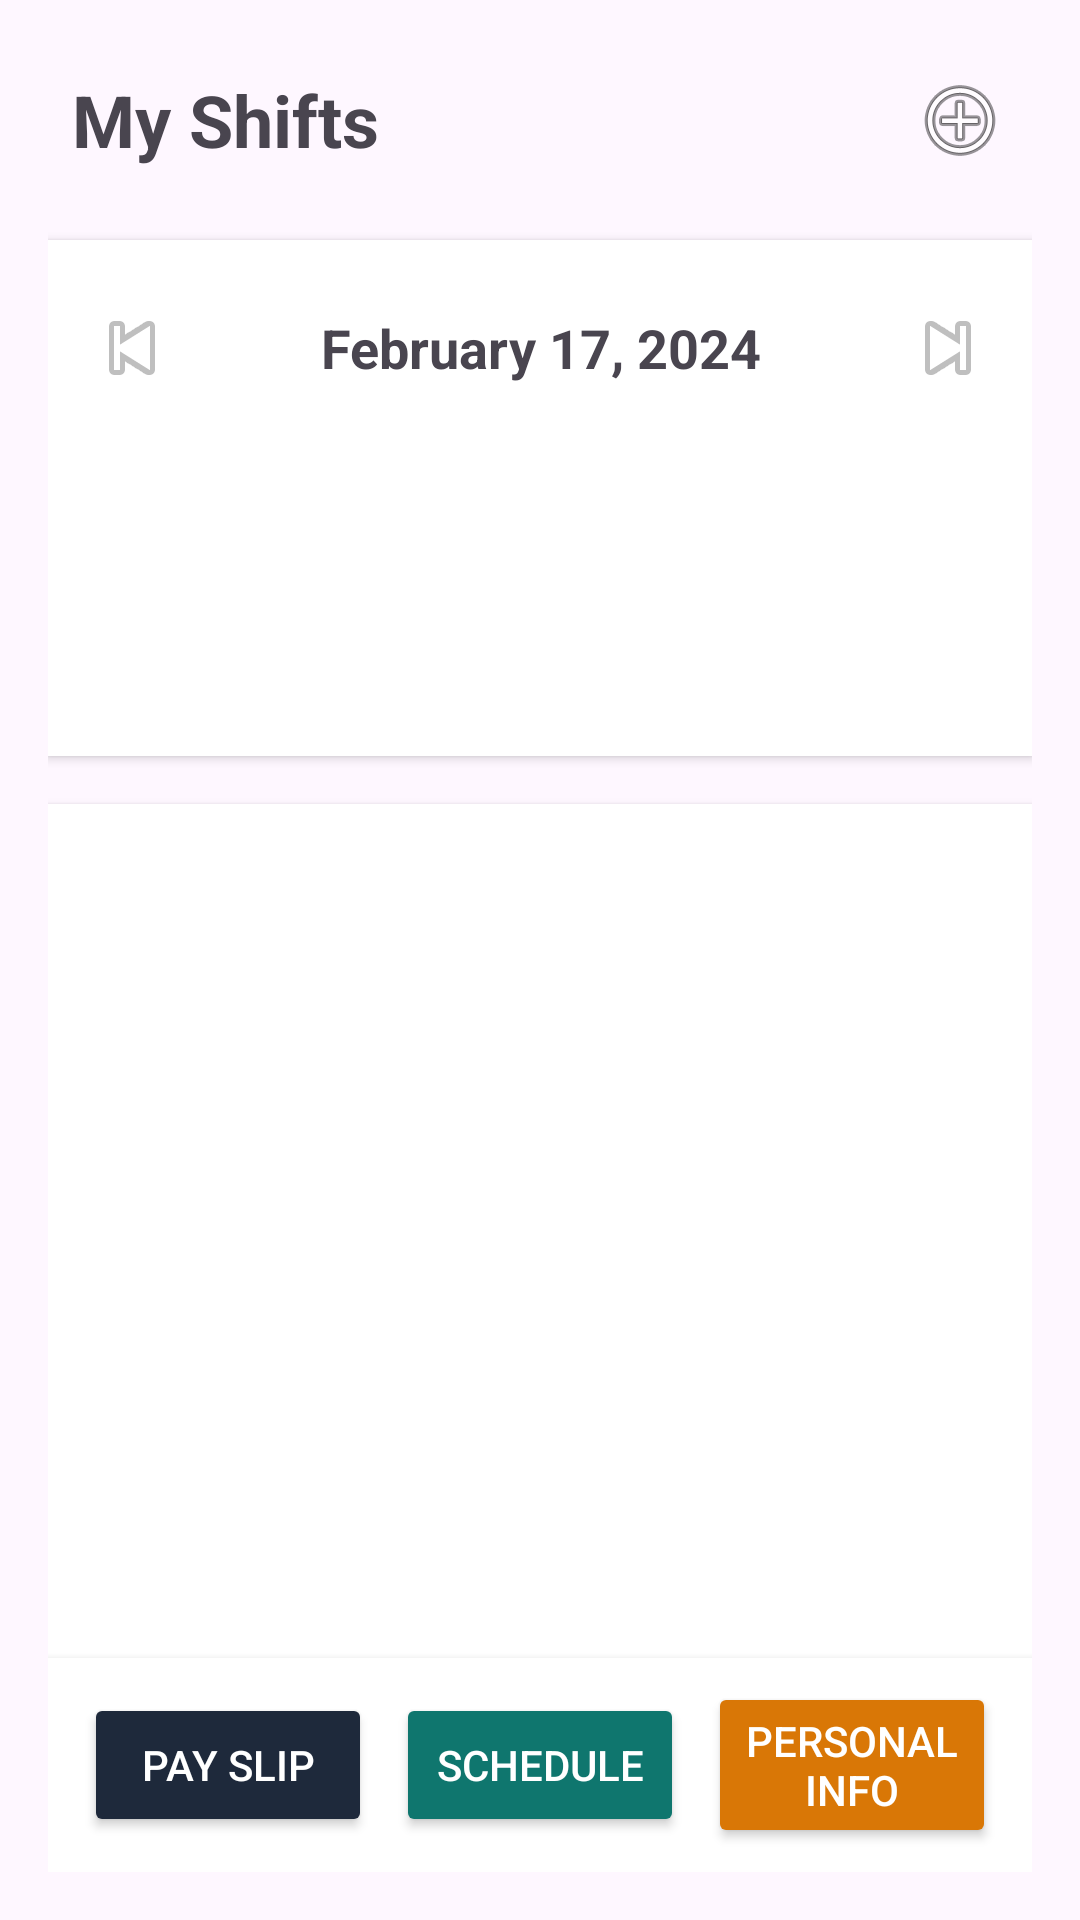

Screen size 1080x1920. Icon name, then its box in pixels as (x1, y1, x2, y2):
Next day: (925, 321, 971, 375)
Previous day: (109, 321, 155, 375)
Request new shift: (924, 85, 996, 156)
